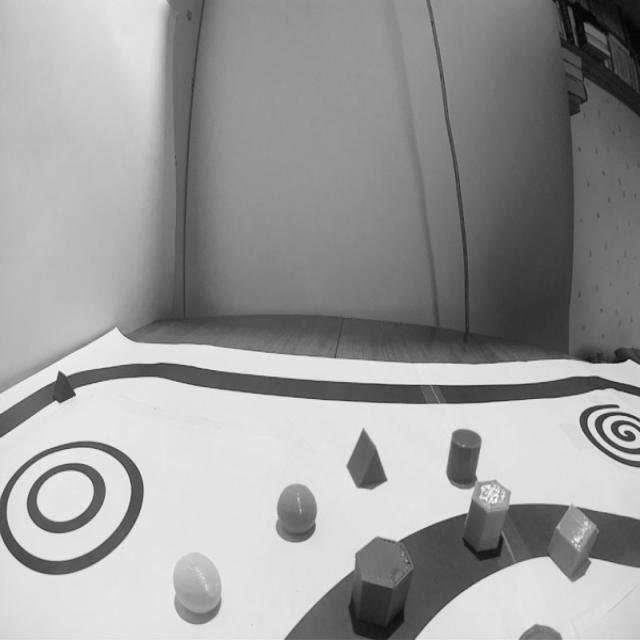ball: (171, 553, 222, 619), (276, 484, 316, 534)
cockade: (0, 438, 146, 572)
cube: (547, 505, 600, 581)
cylinder: (446, 428, 483, 486)
hexagon: (351, 538, 414, 630), (463, 479, 512, 554)
laneRightTurn: (273, 499, 547, 640)
nest: (579, 402, 639, 467)
triangle: (345, 426, 387, 490), (52, 371, 76, 404)
